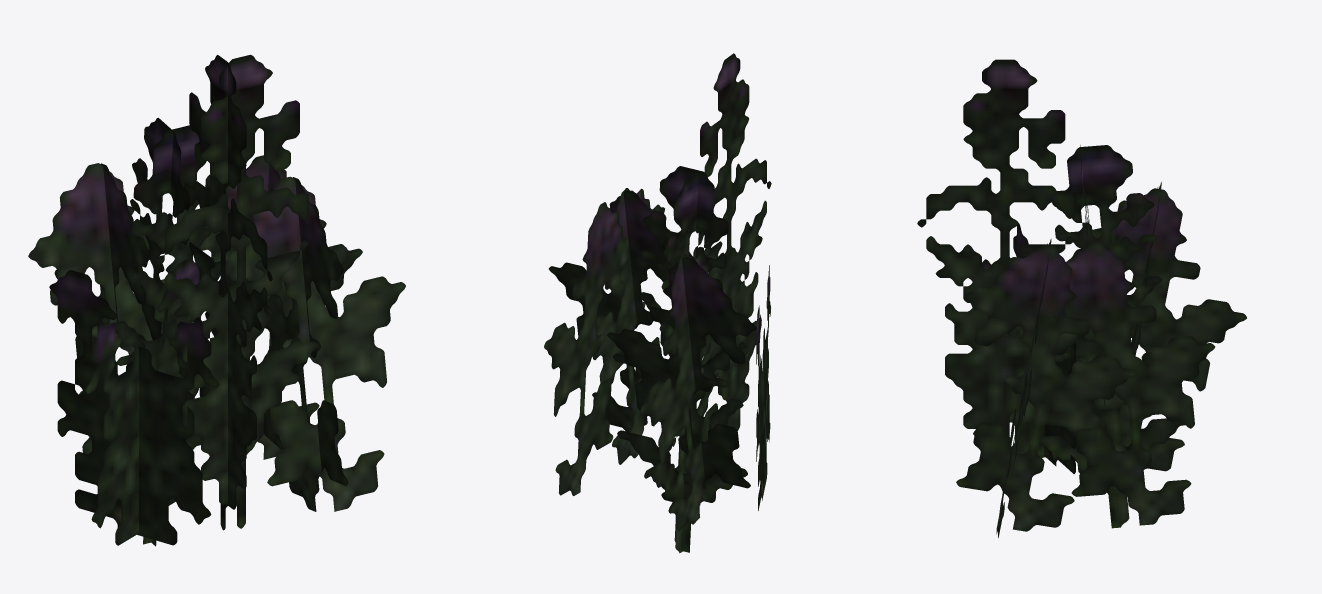
The model's file is SM_EC_Plant_Bush_17.fbx.
The picture shows the model from 3 angles, left to right: view 1: azimuth 30°, elevation 25°; view 2: azimuth 150°, elevation 25°; view 3: azimuth 270°, elevation 25°; orthographic projection. The views are drawn at different scales.
Parts seen in each view (by area): view 1: SM_EC_Plant_Bush_17; view 2: SM_EC_Plant_Bush_17; view 3: SM_EC_Plant_Bush_17.
Part boxes in pixels (x1,y1,x2,y2): SM_EC_Plant_Bush_17: (28, 54, 405, 546); SM_EC_Plant_Bush_17: (544, 53, 771, 553); SM_EC_Plant_Bush_17: (917, 59, 1246, 537).
Bounding box in the file's own units: 0.6785 × 0.6761 × 0.9062.
